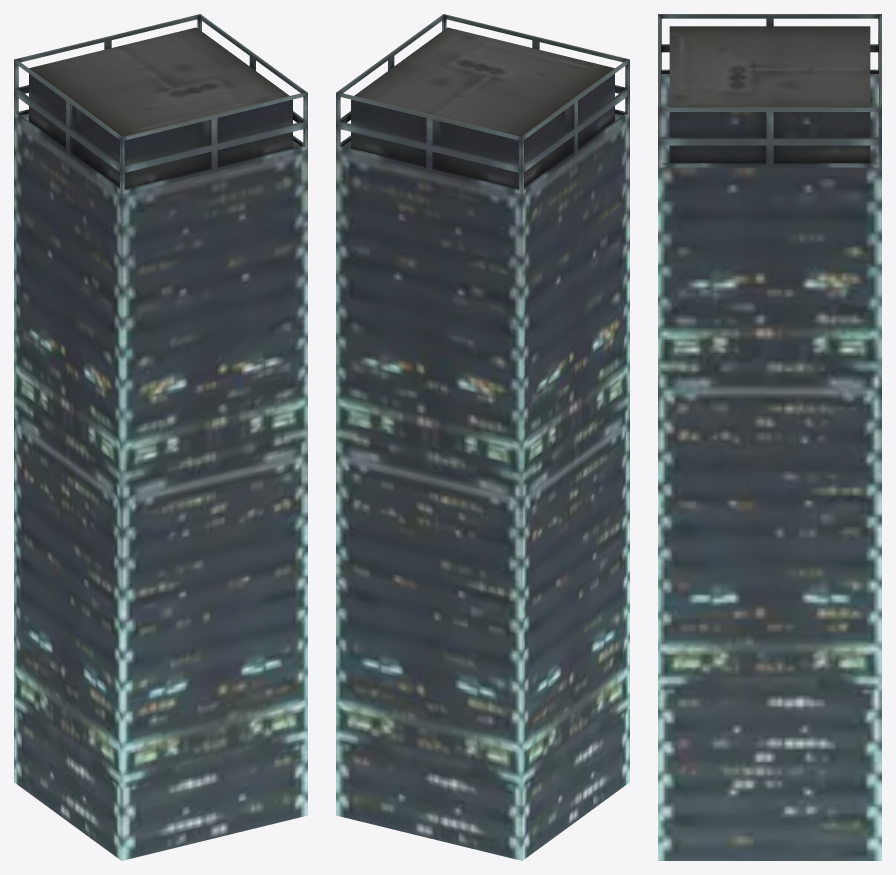
The model's file is building-night-05.glb.
3 views of the same model, side by side, from view 1: azimuth 30°, elevation 25°; view 2: azimuth 150°, elevation 25°; view 3: azimuth 270°, elevation 25° (orthographic). The views are drawn at different scales.
Parts seen in each view (by area): view 1: Cube.001_Background_Night_Buildings_0.005; view 2: Cube.001_Background_Night_Buildings_0.005; view 3: Cube.001_Background_Night_Buildings_0.005.
Part boxes in pixels (x1,y1,x2,y2): Cube.001_Background_Night_Buildings_0.005: (14,14,307,860); Cube.001_Background_Night_Buildings_0.005: (336,14,629,860); Cube.001_Background_Night_Buildings_0.005: (658,14,881,860).
Size of the model in its own units: 17.5 by 64.91 by 17.5.
1 material, 1 textured.
